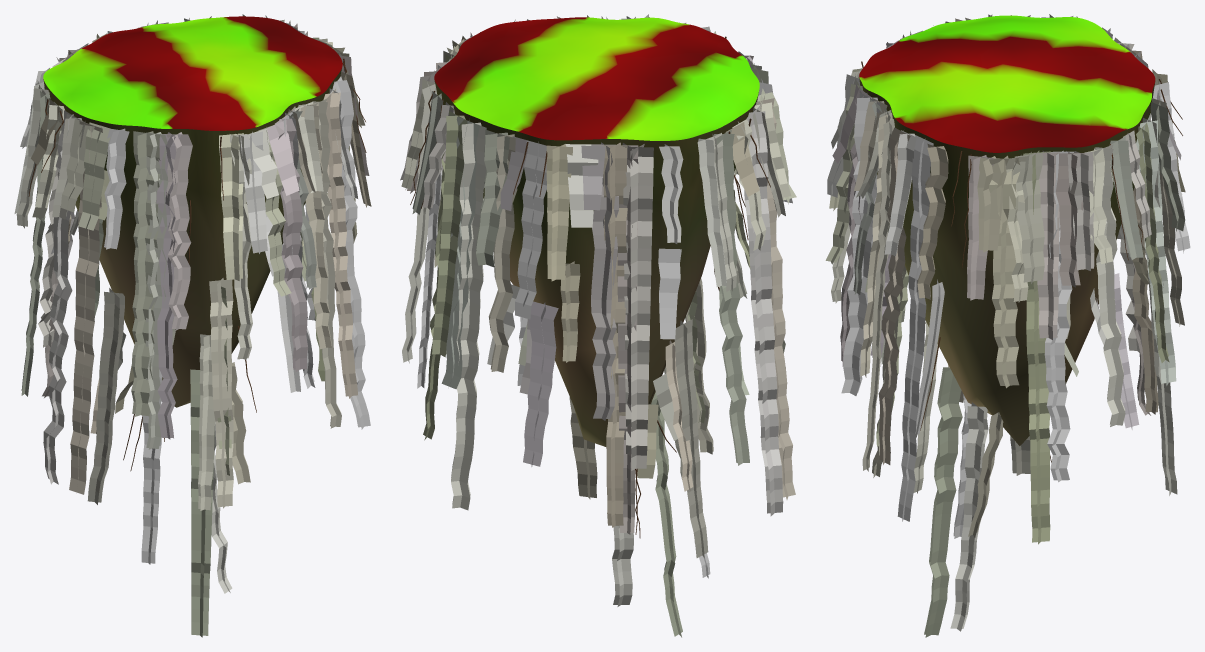
The model's file is SM_H06_Floater04.fbx.
The picture shows the model from 3 angles, left to right: view 1: azimuth 30°, elevation 25°; view 2: azimuth 150°, elevation 25°; view 3: azimuth 270°, elevation 25°; orthographic projection. The views are drawn at different scales.
Parts seen in each view (by area): view 1: SM_H06_Floater04_Ivy, SM_H06_Floater04; view 2: SM_H06_Floater04_Ivy, SM_H06_Floater04; view 3: SM_H06_Floater04_Ivy, SM_H06_Floater04.
Boxes of the visible parts, x1,y1,x2,y2 form: SM_H06_Floater04_Ivy: (14, 14, 371, 637); SM_H06_Floater04: (43, 16, 342, 407); SM_H06_Floater04_Ivy: (400, 14, 796, 637); SM_H06_Floater04: (434, 17, 759, 446); SM_H06_Floater04_Ivy: (825, 14, 1190, 637); SM_H06_Floater04: (859, 15, 1155, 445).
Size of the model in its own units: 26.63 by 43.69 by 24.75.
